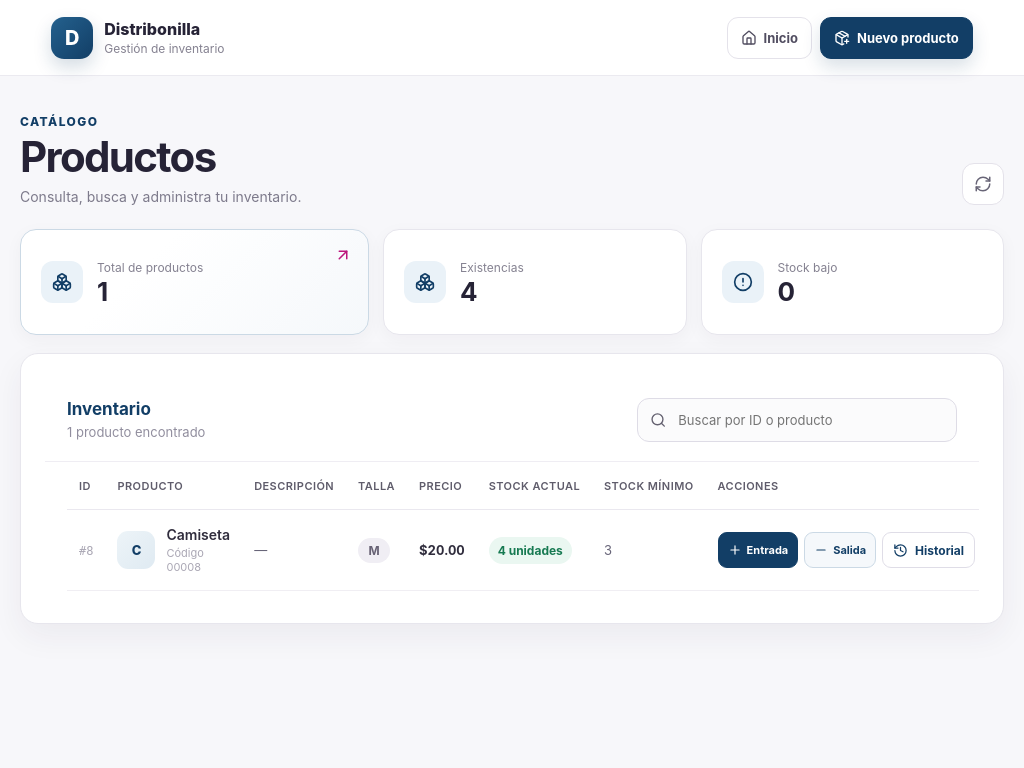
Scenario: TC-INV-13 transitions the low-stock alert after a 4 -> 3 -> 4 stock cycle
Click the button with aria-label "Disminuir stock de Camiseta" at (840, 550), box [804, 532, 876, 568]
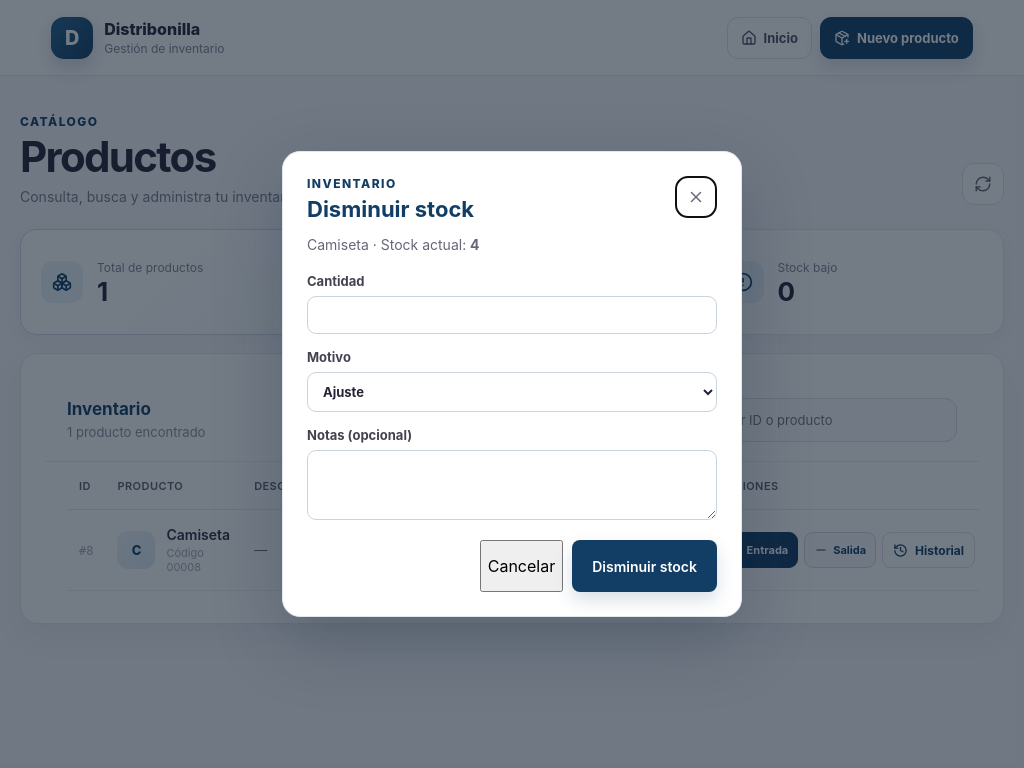
Type "1" into the number field labelled "Cantidad" at (512, 315), box [307, 296, 717, 334]
Select "Merma" in the dropdown labelled "Motivo" at (512, 392), box [307, 372, 717, 412]
Click the button "Disminuir stock" at (645, 566), box [572, 540, 717, 592]
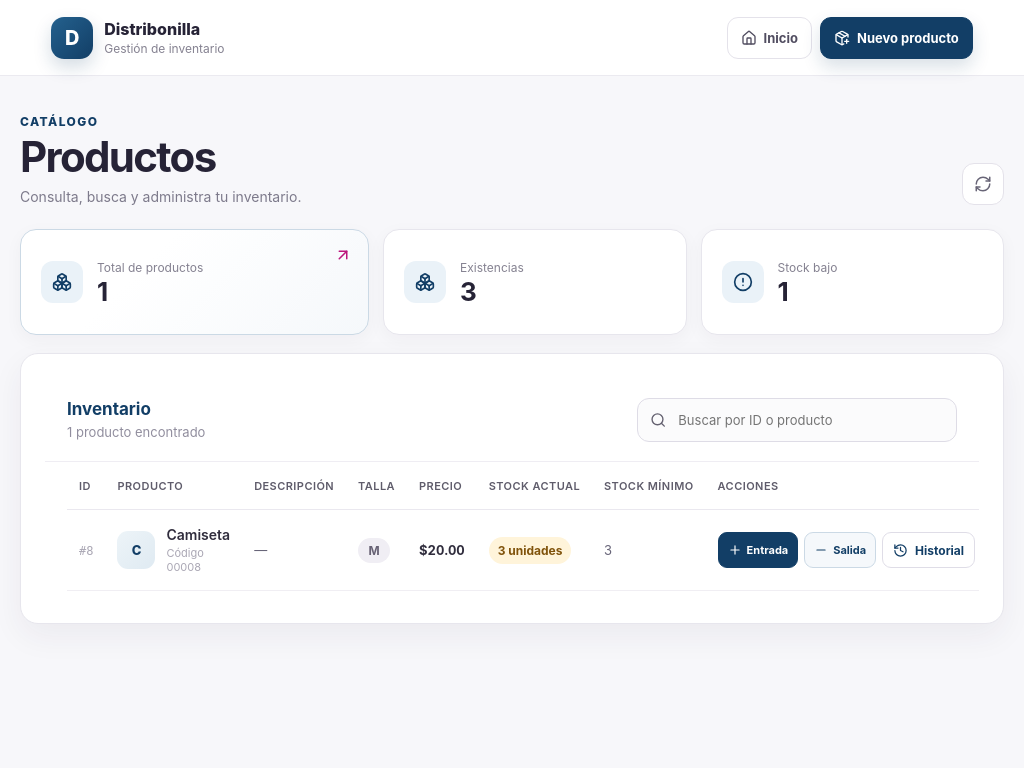
Check: the text "Stock bajo" shows "1", box [778, 276, 789, 306]
Click the button with aria-label "Aumentar stock de Camiseta" at (758, 550), box [718, 532, 798, 568]
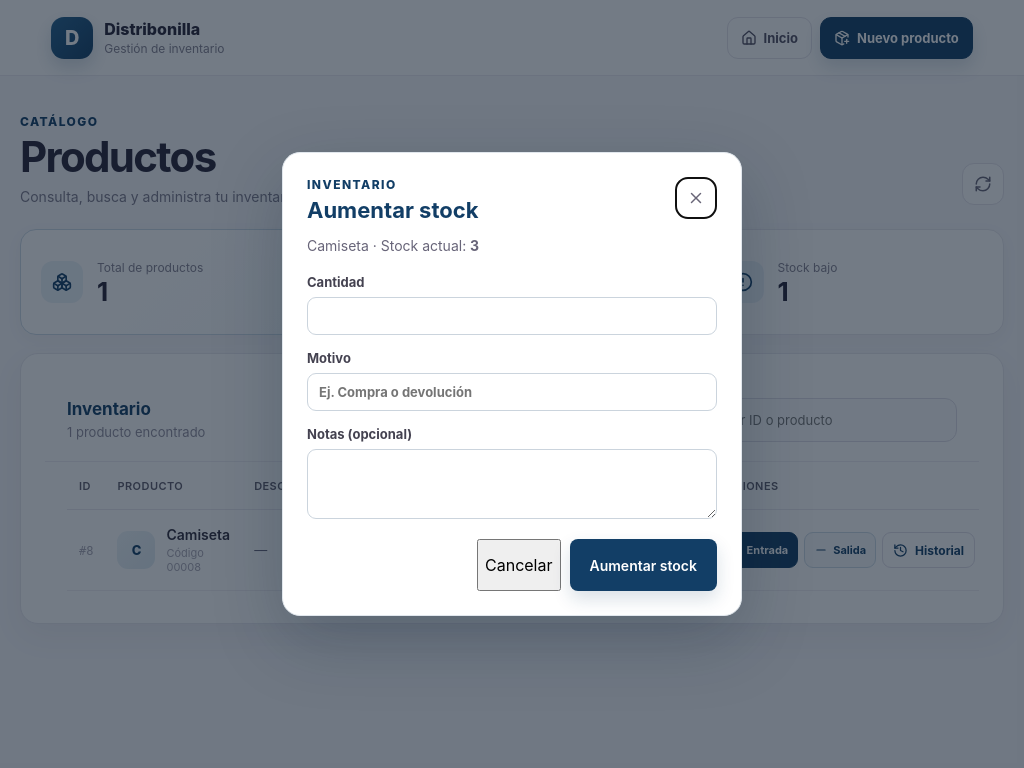
Type "1" into the number field labelled "Cantidad" at (512, 316), box [307, 297, 717, 335]
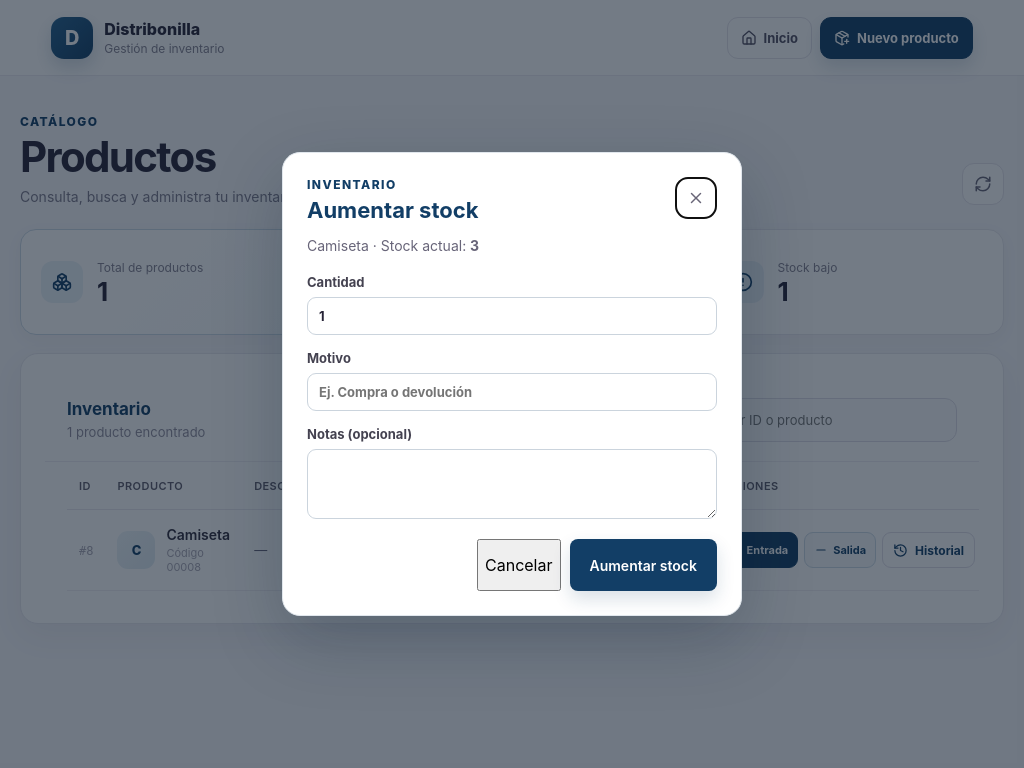
Type "Compra" into the field labelled "Motivo" at (512, 392), box [307, 373, 717, 411]
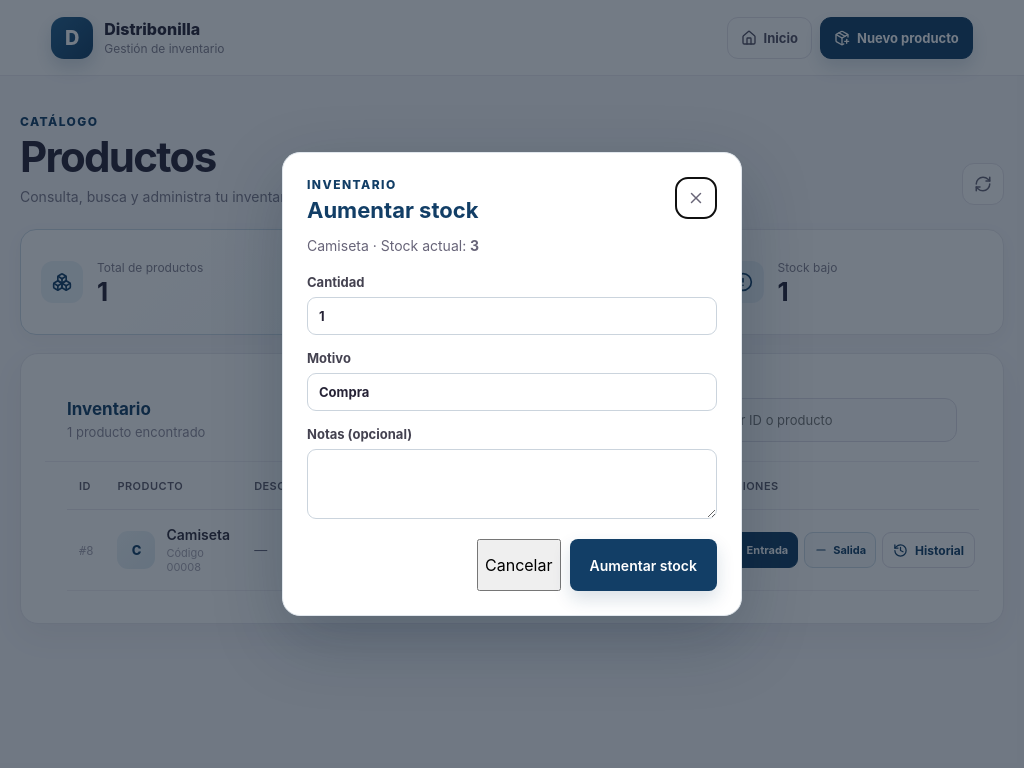
Click the button "Aumentar stock" at (643, 565), box [570, 539, 717, 591]
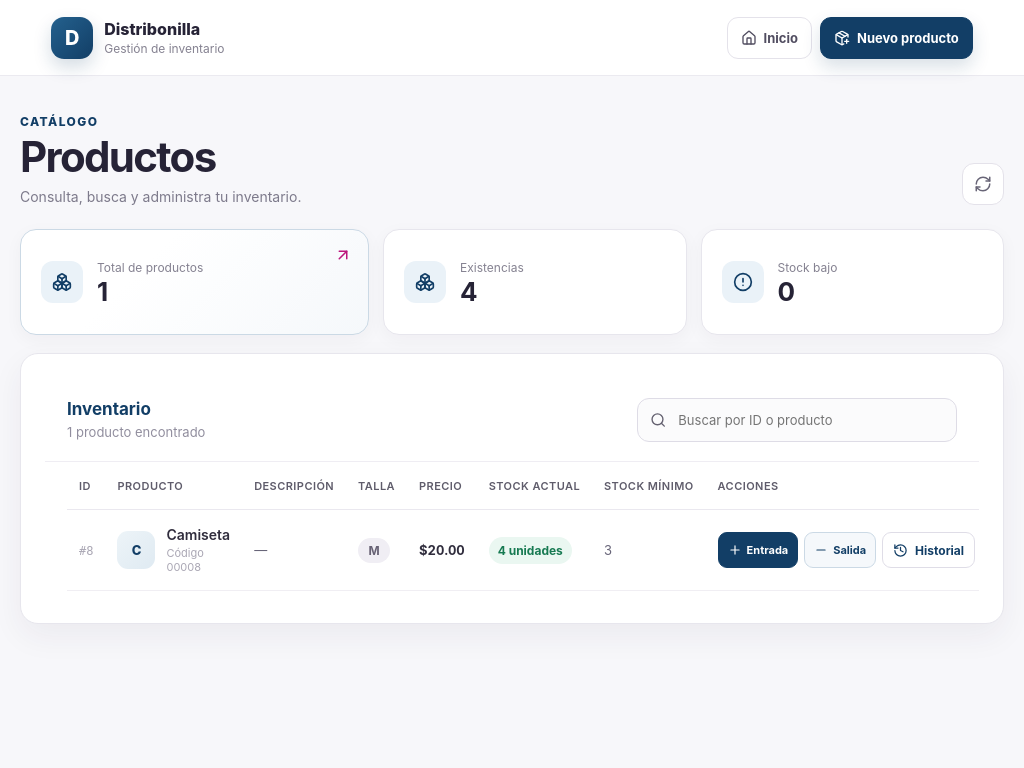
Check: the text "Stock bajo" shows "0", box [778, 276, 795, 306]
